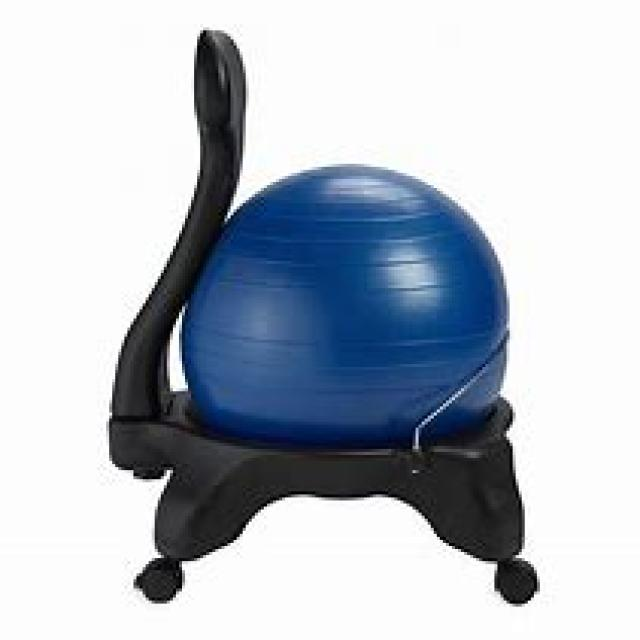chair: (106, 24, 540, 604)
